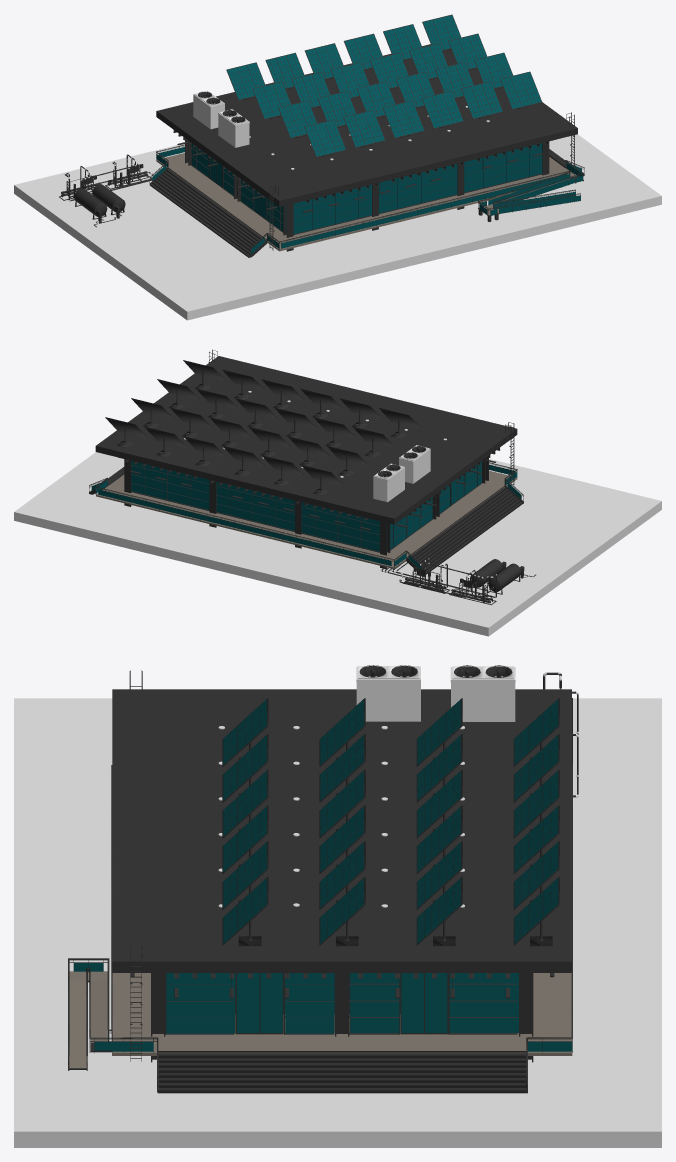
Rendered from BachelorsThesis.glb.
3 renders of one model, top to bottom at view 1: azimuth 30°, elevation 25°; view 2: azimuth 150°, elevation 25°; view 3: azimuth 270°, elevation 25°, orthographic. The views are drawn at different scales.
Parts seen in each view (by area): view 1: Platform, Panel, Ceiling, Curtain, Railing, Floor, Vertical, Piping, AC, Columns, Doors, Sub; view 2: Platform, Ceiling, Panel, Curtain, Floor, Vertical, Railing, Piping, AC, Columns, Doors, Sub (+1 smaller); view 3: Platform, Ceiling, Panel, Vertical, Curtain, Floor, AC, Doors, Railing, Columns, Piping.
Boxes of the visible parts, bbox=[...] form: Platform: bbox=[14, 134, 661, 320]; Panel: bbox=[226, 14, 542, 157]; Ceiling: bbox=[156, 44, 577, 206]; Curtain: bbox=[191, 143, 542, 234]; Railing: bbox=[149, 144, 584, 256]; Floor: bbox=[156, 153, 575, 251]; Vertical: bbox=[150, 112, 584, 257]; Piping: bbox=[59, 106, 489, 227]; AC: bbox=[193, 90, 249, 147]; Columns: bbox=[185, 139, 549, 251]; Doors: bbox=[209, 157, 266, 220]; Sub: bbox=[173, 130, 548, 202]; Platform: bbox=[14, 452, 661, 636]; Ceiling: bbox=[95, 356, 517, 524]; Panel: bbox=[105, 360, 421, 495]; Curtain: bbox=[131, 460, 482, 552]; Floor: bbox=[96, 470, 517, 568]; Vertical: bbox=[89, 349, 523, 574]; Railing: bbox=[89, 462, 523, 569]; Piping: bbox=[184, 391, 535, 605]; AC: bbox=[373, 445, 430, 502]; Columns: bbox=[124, 457, 488, 568]; Doors: bbox=[407, 475, 463, 537]; Sub: bbox=[125, 448, 500, 520]; Platform: bbox=[14, 698, 661, 1147]; Ceiling: bbox=[112, 689, 571, 972]; Panel: bbox=[222, 698, 559, 946]; Vertical: bbox=[69, 670, 527, 1093]; Curtain: bbox=[165, 973, 518, 1034]; Floor: bbox=[112, 973, 572, 1055]; AC: bbox=[356, 665, 515, 721]; Doors: bbox=[235, 973, 448, 1034]; Railing: bbox=[68, 765, 572, 1092]; Columns: bbox=[151, 973, 533, 1062]; Piping: bbox=[218, 672, 578, 907].
Bounding box in the file's own units: 55.69 × 11.11 × 35.2.
